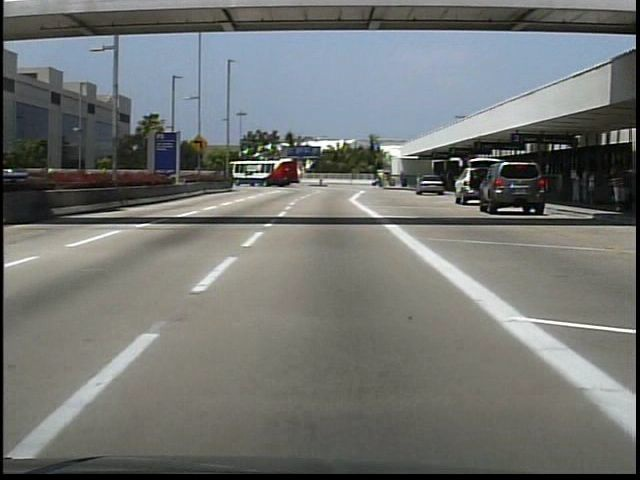person: (607, 164, 628, 211)
